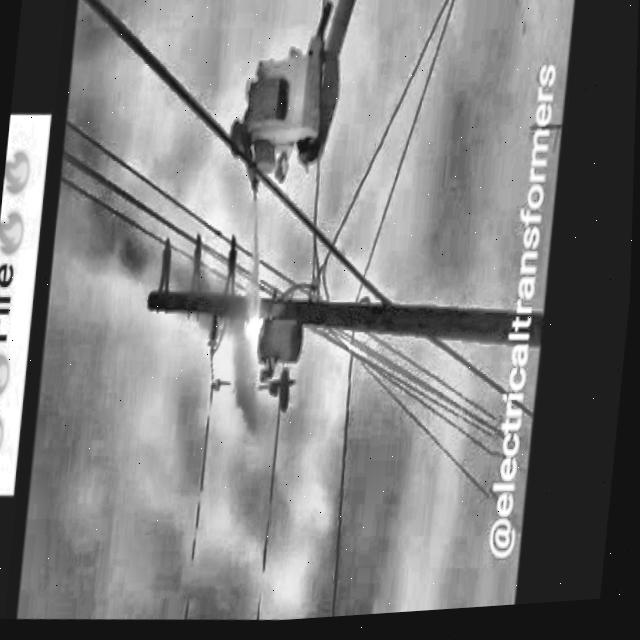Fire: (235, 311, 266, 367)
